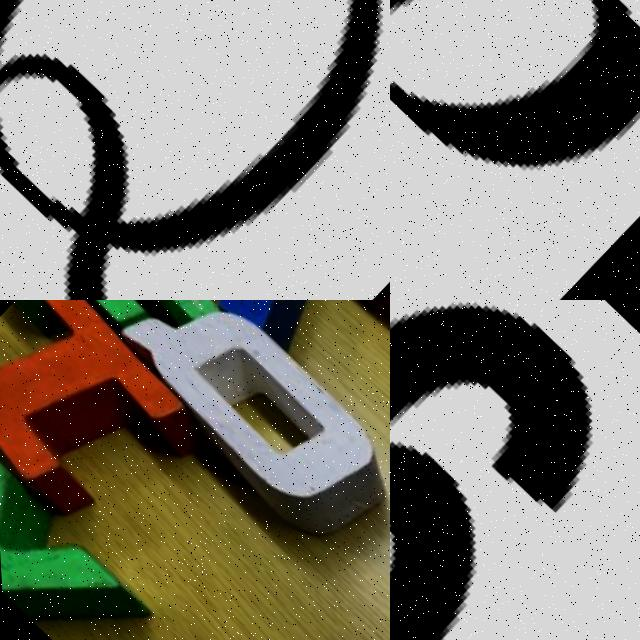6: (390, 300, 640, 640)
F: (5, 300, 227, 414)
I: (0, 300, 205, 542)
P: (390, 0, 640, 171)
Q: (0, 0, 390, 300), (110, 300, 390, 573)
